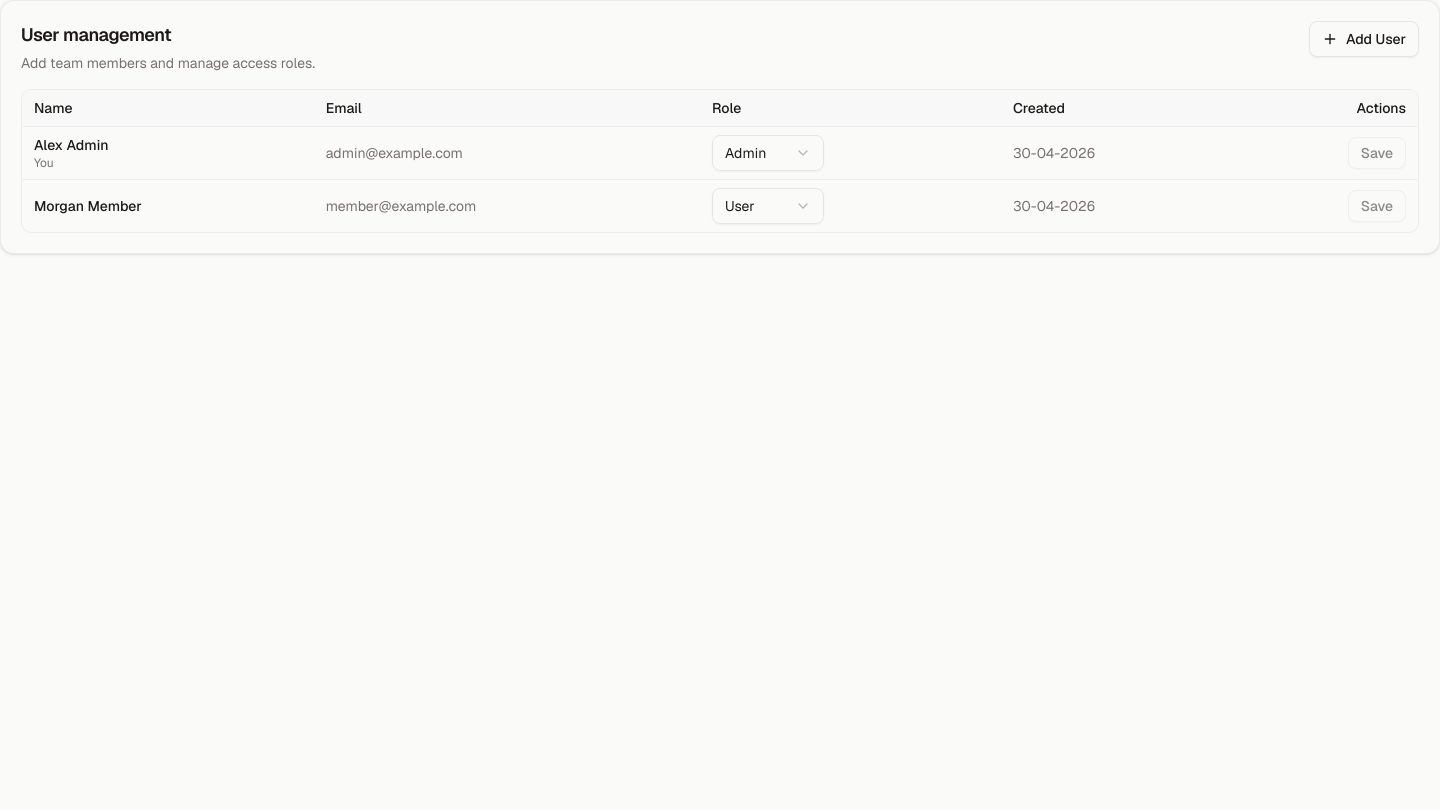
UserManagementSection › renders user list and opens the Add User dialog
This screenshot has width=1440, height=810.
Check: the text "Alex Admin" is shown, box left=34, top=136, right=109, bottom=154
Check: the text "Morgan Member" is shown, box left=34, top=197, right=142, bottom=215
Click the button "Add User" at (1364, 39), box left=1309, top=21, right=1419, bottom=57
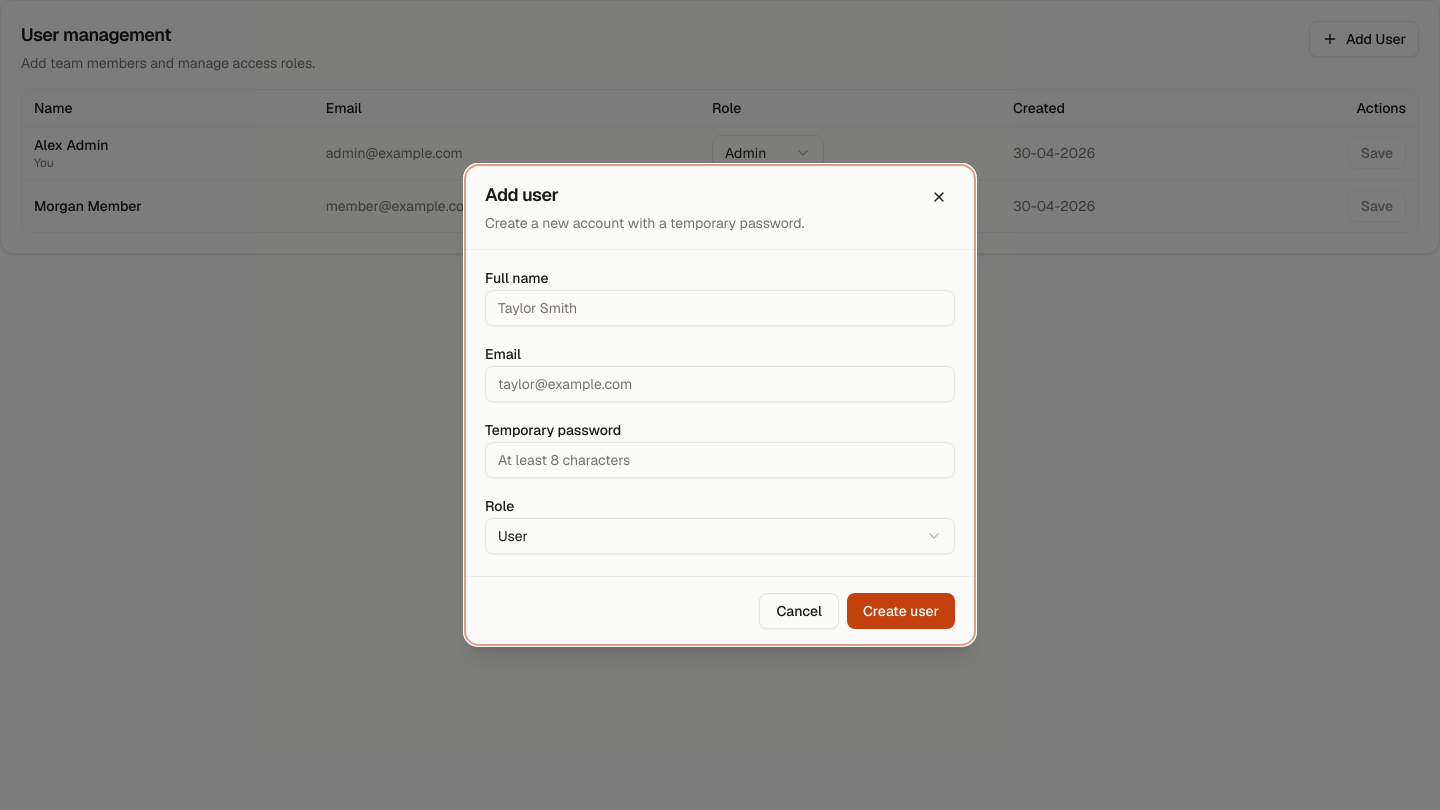
Check: the dialog is shown
Check: the password field labelled "Temporary password" is shown, box left=485, top=442, right=955, bottom=478
